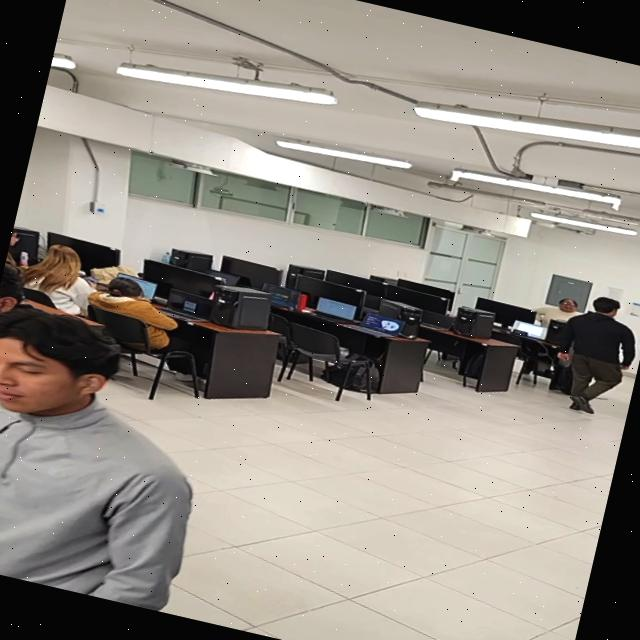Persona: (0, 291, 235, 615), (539, 284, 640, 425)
